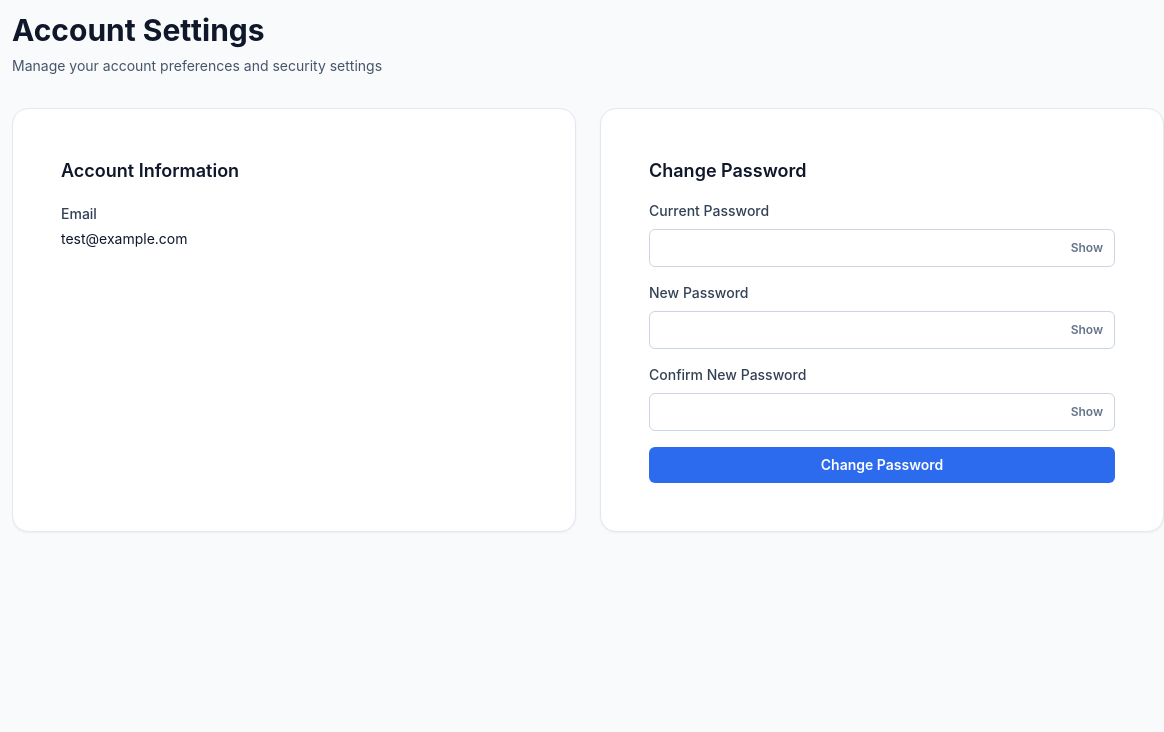
Scenario: AccountPage › shows error when new passwords do not match
This screenshot has width=1164, height=732.
Type "currentpass123" into the password field labelled "Current Password". click: [882, 248]
box: [649,229,1115,267]
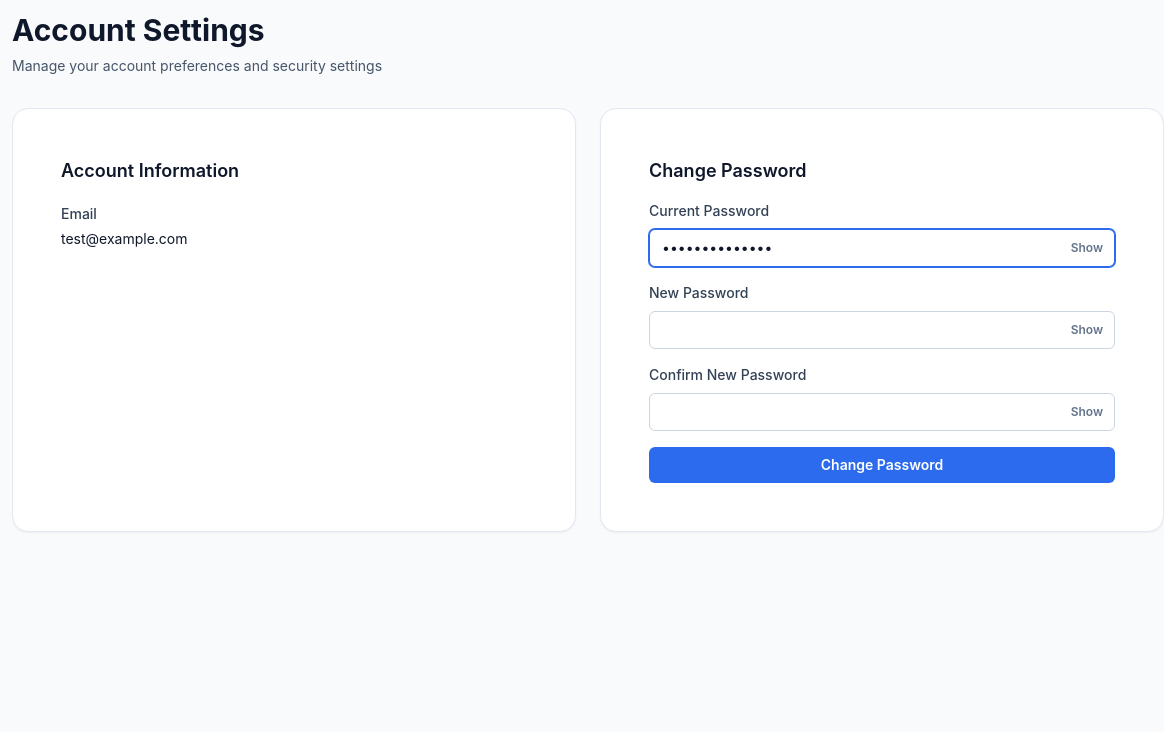
Type "newpassword123" into the password field labelled "New Password". click: [882, 330]
box: [649,311,1115,349]
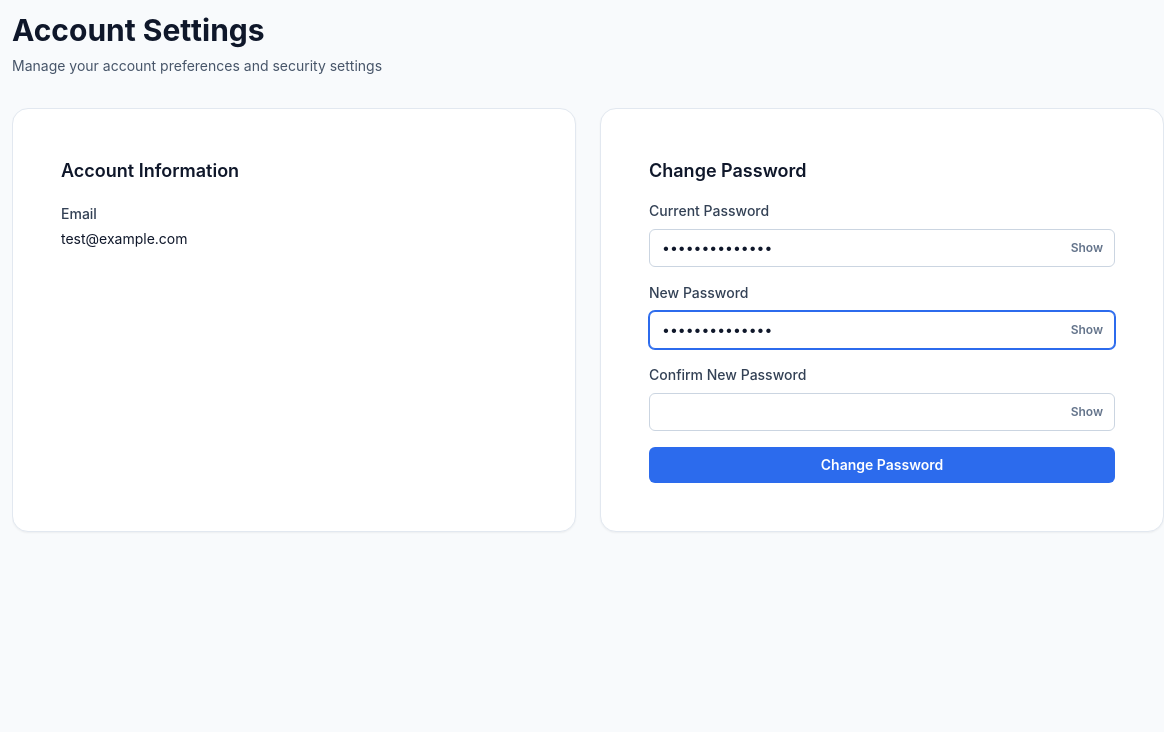
Type "differentpassword" into the password field labelled "Confirm New Password". click: [882, 412]
box: [649,393,1115,431]
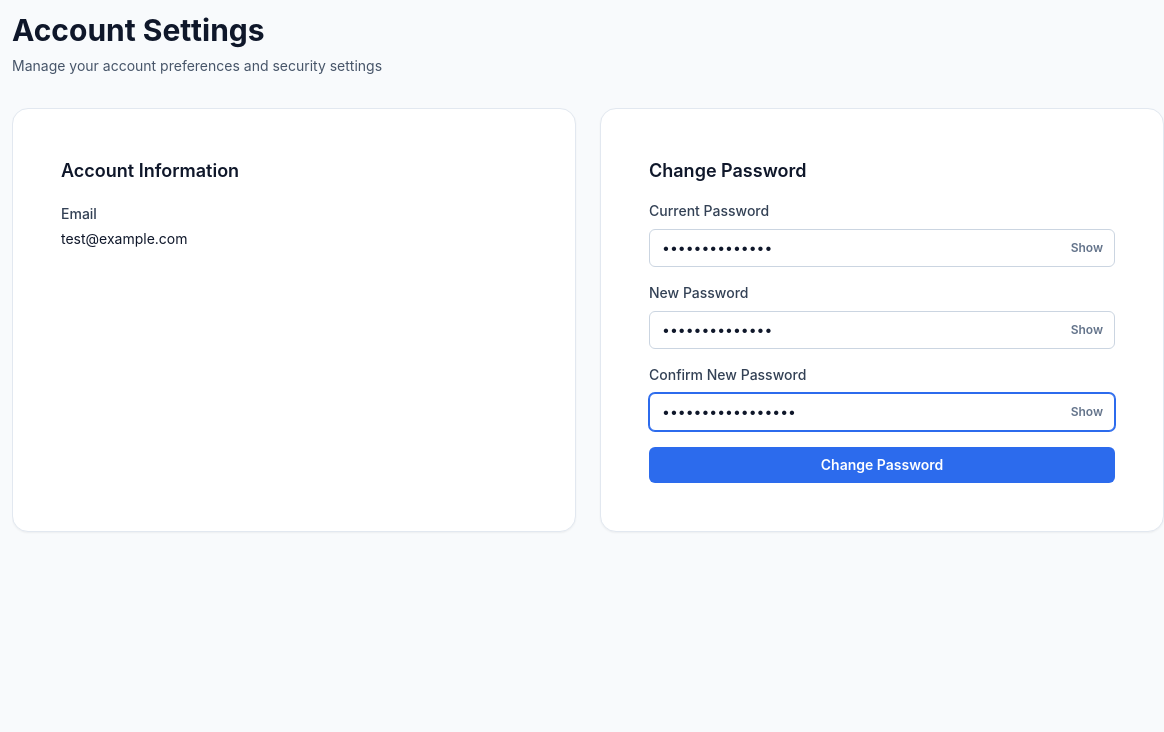
Click the button "Change Password". click: [882, 465]
box: [649,447,1115,483]
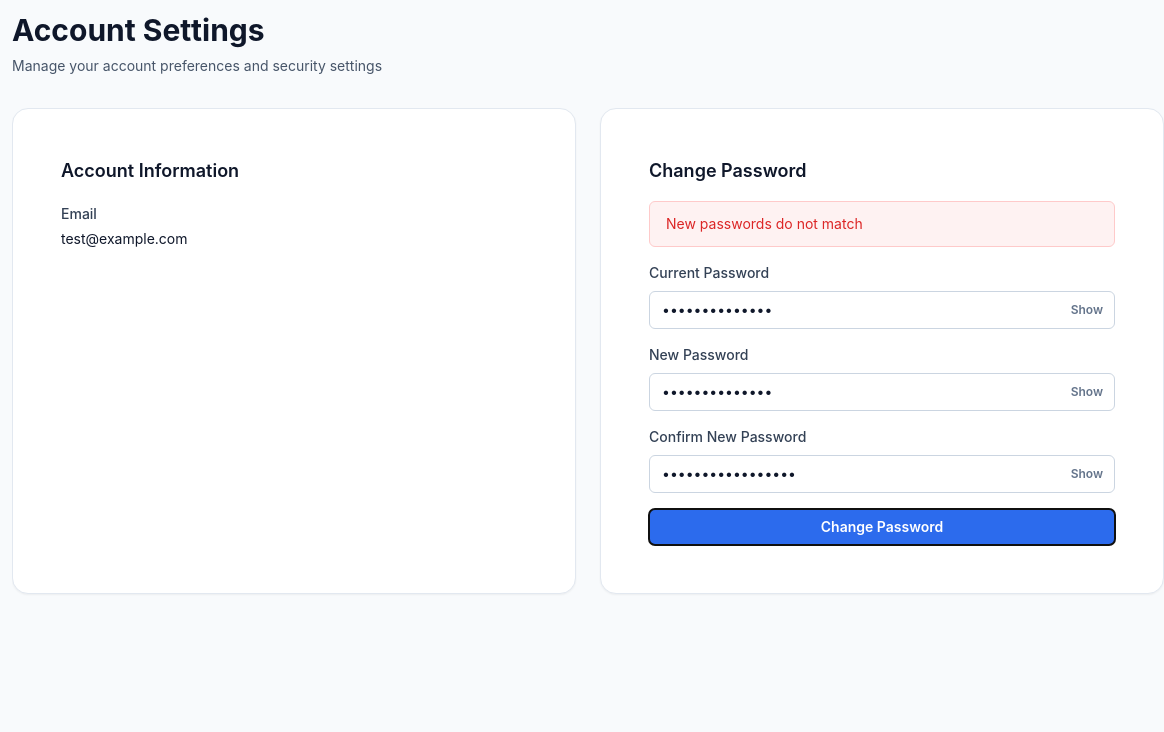
expect the text "New passwords do not match" is shown: met, box [649,201,1115,247]
